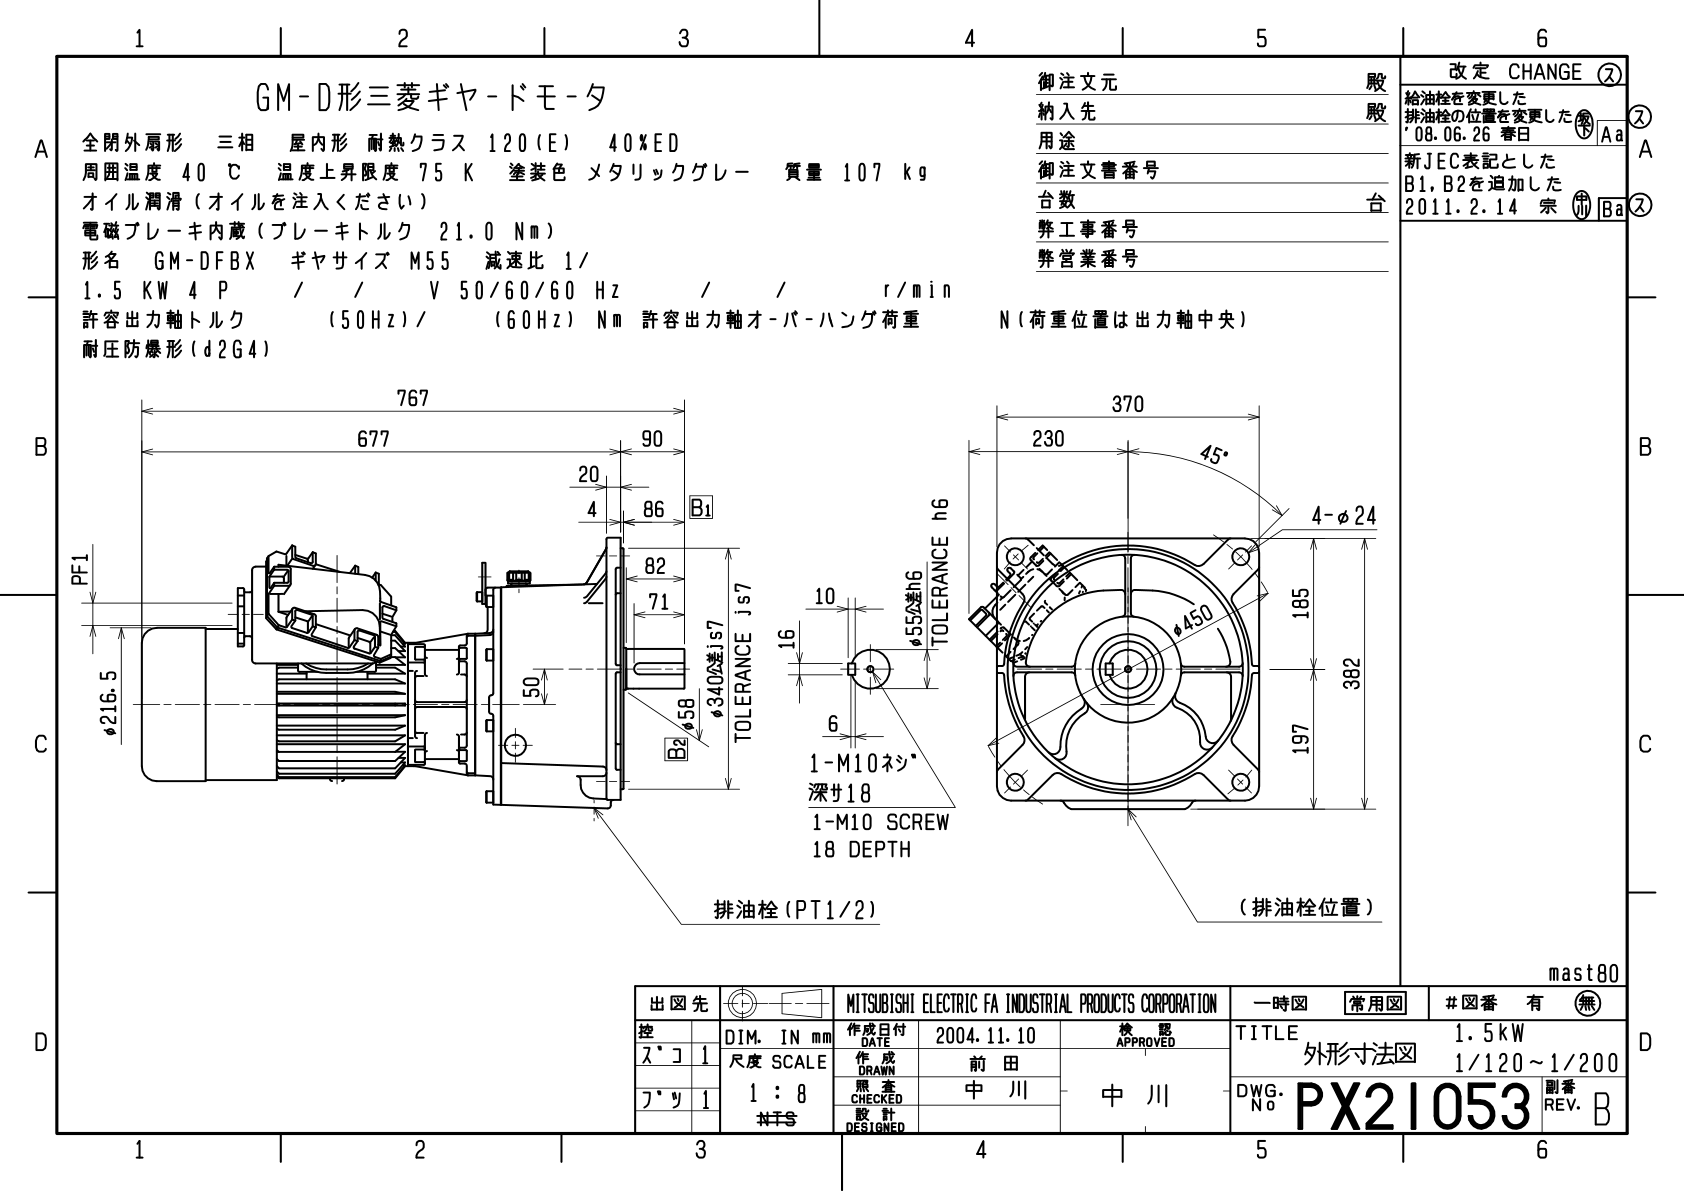GM_SP_屋内＿三相_フランジ: (67, 373, 1393, 967)
